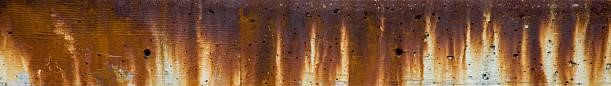Corrosion: (1, 1, 611, 86)
Spalling: (391, 46, 405, 57), (141, 47, 151, 57), (331, 8, 340, 14), (414, 14, 421, 21)
